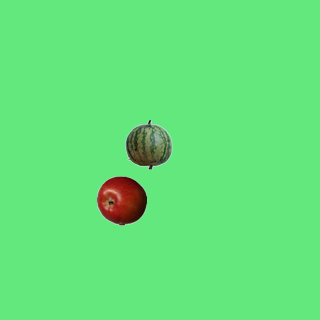Apple Braeburn: (96, 175, 146, 225)
Watermelon: (123, 119, 173, 169)
